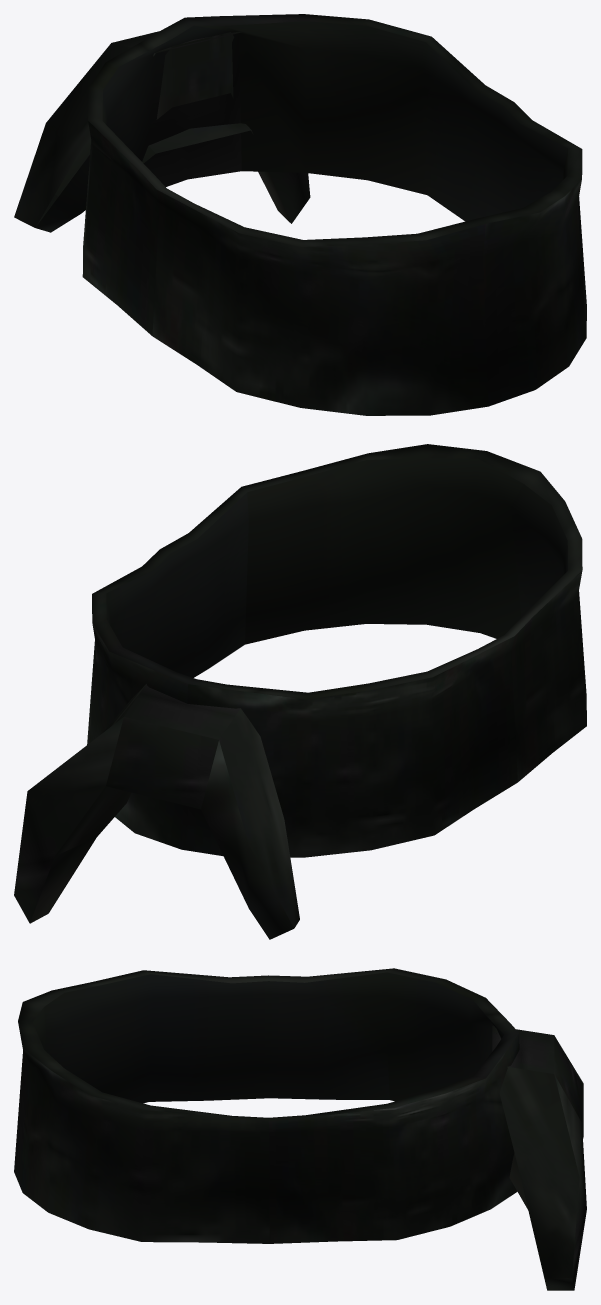
File: OPASKA.glb
3 renders of one model, top to bottom at view 1: azimuth 30°, elevation 25°; view 2: azimuth 150°, elevation 25°; view 3: azimuth 270°, elevation 25°, orthographic. The views are drawn at different scales.
Visible parts, largest first — view 1: Mesh; view 2: Mesh; view 3: Mesh.
Part boxes in pixels (x1,y1,x2,y2): Mesh: (14, 14, 586, 415); Mesh: (14, 444, 586, 939); Mesh: (14, 968, 586, 1290).
Bounding box in the file's own units: 0.1793 × 0.1237 × 0.2931.
Materials: 1 (1 with a texture image).
